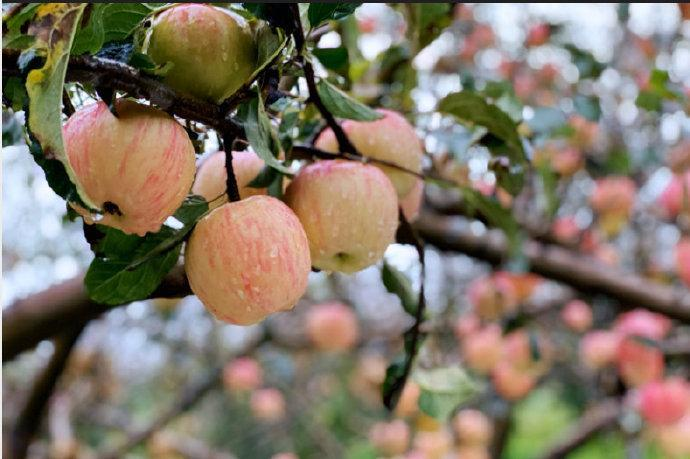apple: (58, 94, 195, 240), (183, 195, 310, 328), (282, 156, 398, 277), (137, 1, 265, 102), (306, 302, 358, 353)
